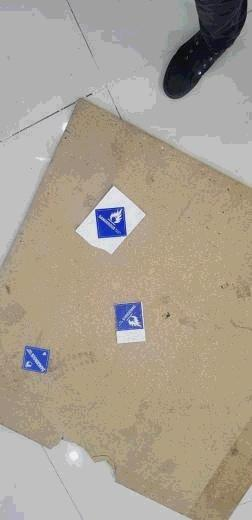dangerous-when-wet: (94, 207, 128, 239), (113, 302, 144, 330), (21, 346, 50, 374)
